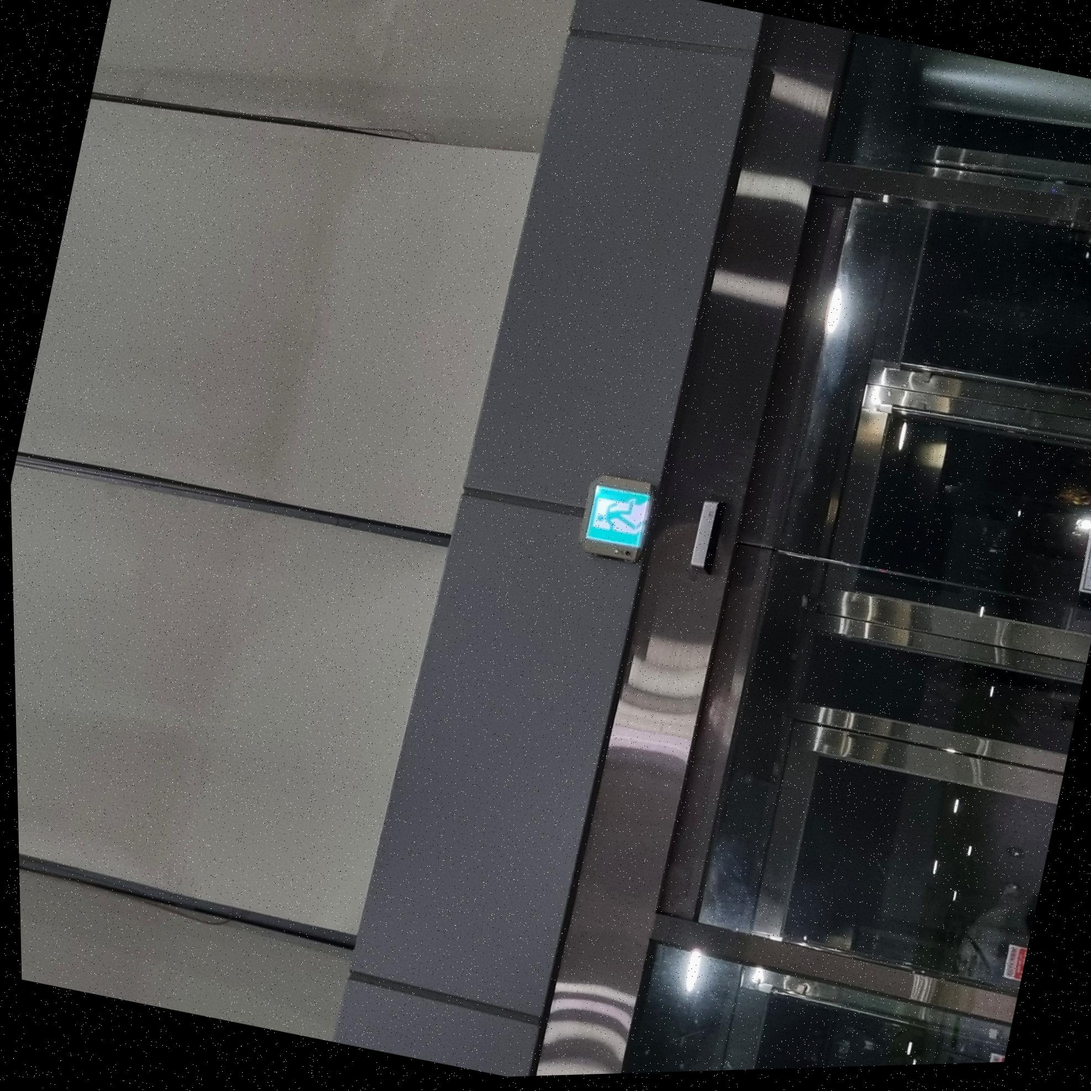emergency_exit: (579, 473, 654, 563)
